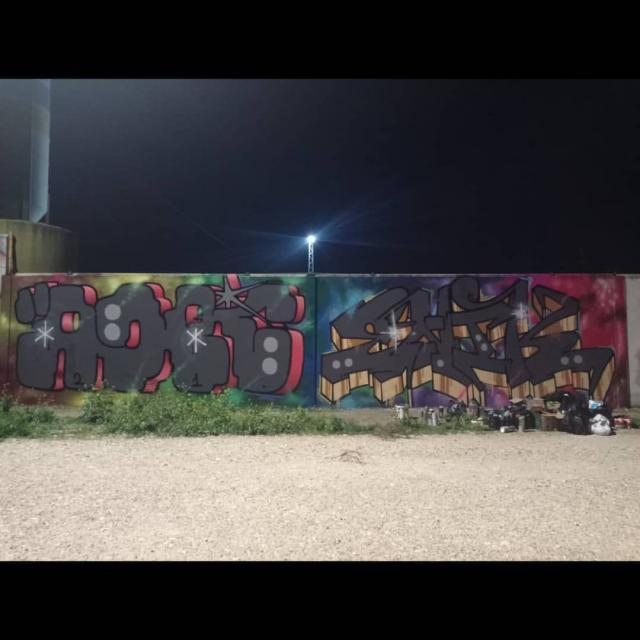-: (318, 279, 619, 419), (18, 282, 306, 398)
